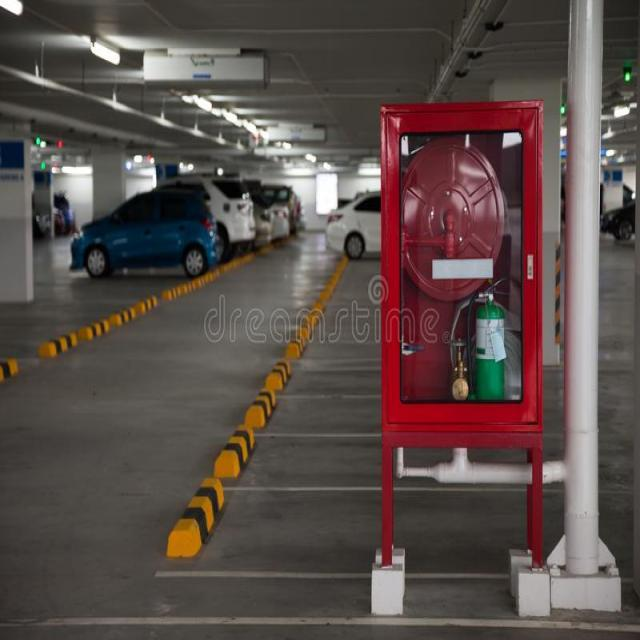fire_extinguisher: (471, 273, 514, 408)
